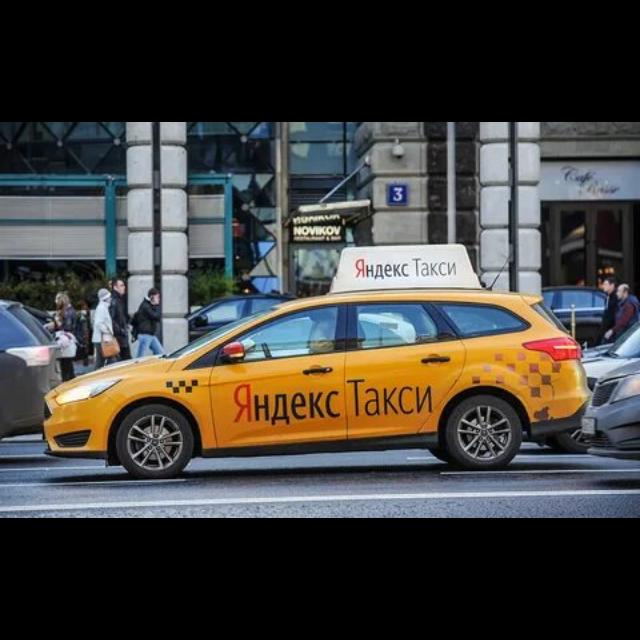taxi: (42, 243, 594, 479)
